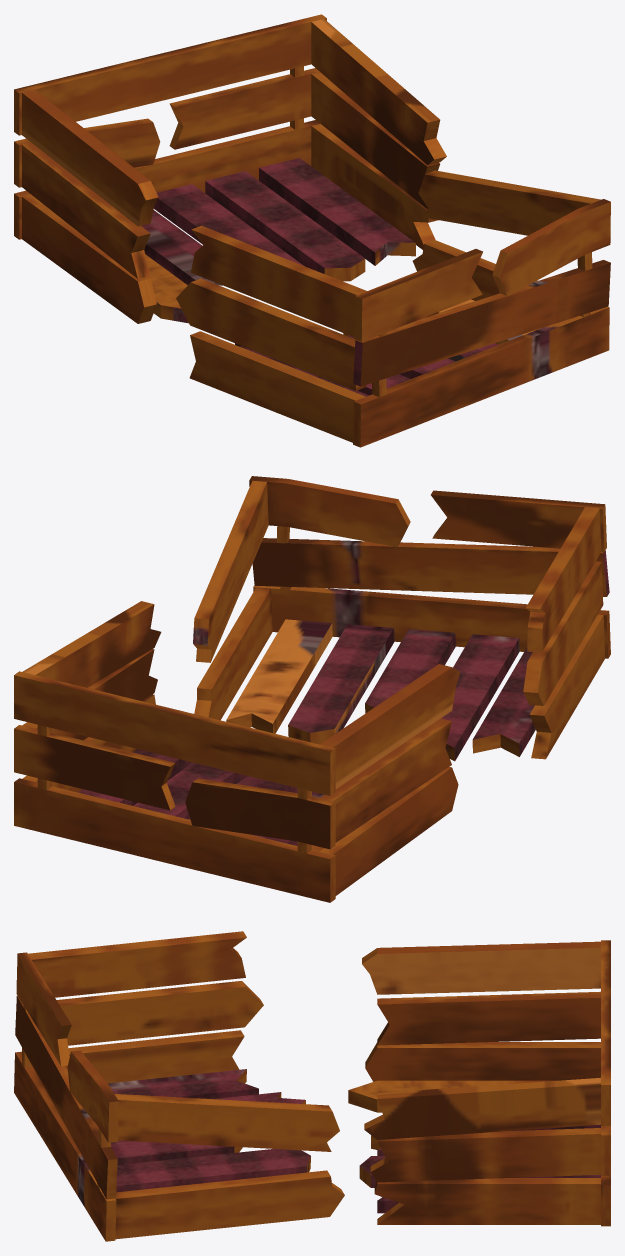
The model's file is broken fruit crate_11.fbx.
3 renders of one model, top to bottom at view 1: azimuth 30°, elevation 25°; view 2: azimuth 150°, elevation 25°; view 3: azimuth 270°, elevation 25°, orthographic. The views are drawn at different scales.
Parts seen in each view (by area): view 1: Cube.051, Cube.050; view 2: Cube.050, Cube.051; view 3: Cube.050, Cube.051.
Boxes of the visible parts, x1=… form: Cube.051: x1=14, y1=14, x2=446, y2=323; Cube.050: x1=176, y1=170, x2=610, y2=447; Cube.050: x1=193, y1=476, x2=610, y2=761; Cube.051: x1=14, y1=601, x2=460, y2=902; Cube.050: x1=14, y1=931, x2=344, y2=1241; Cube.051: x1=348, y1=940, x2=610, y2=1226.
Bounding box in the file's own units: 31.13 × 13.31 × 46.84.
